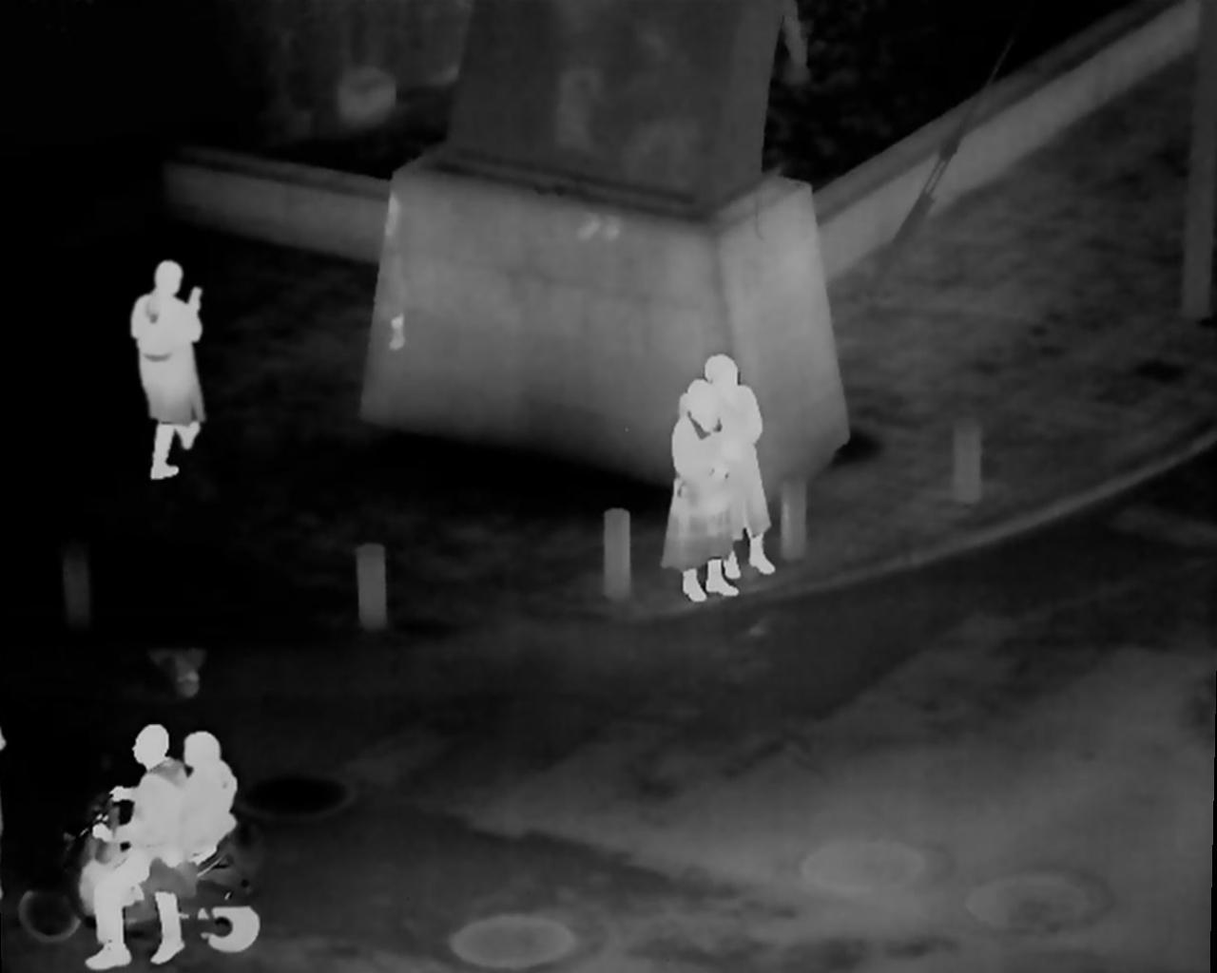person: (80, 723, 199, 973), (129, 261, 205, 482), (703, 353, 774, 582), (172, 732, 238, 973), (665, 380, 733, 610)
